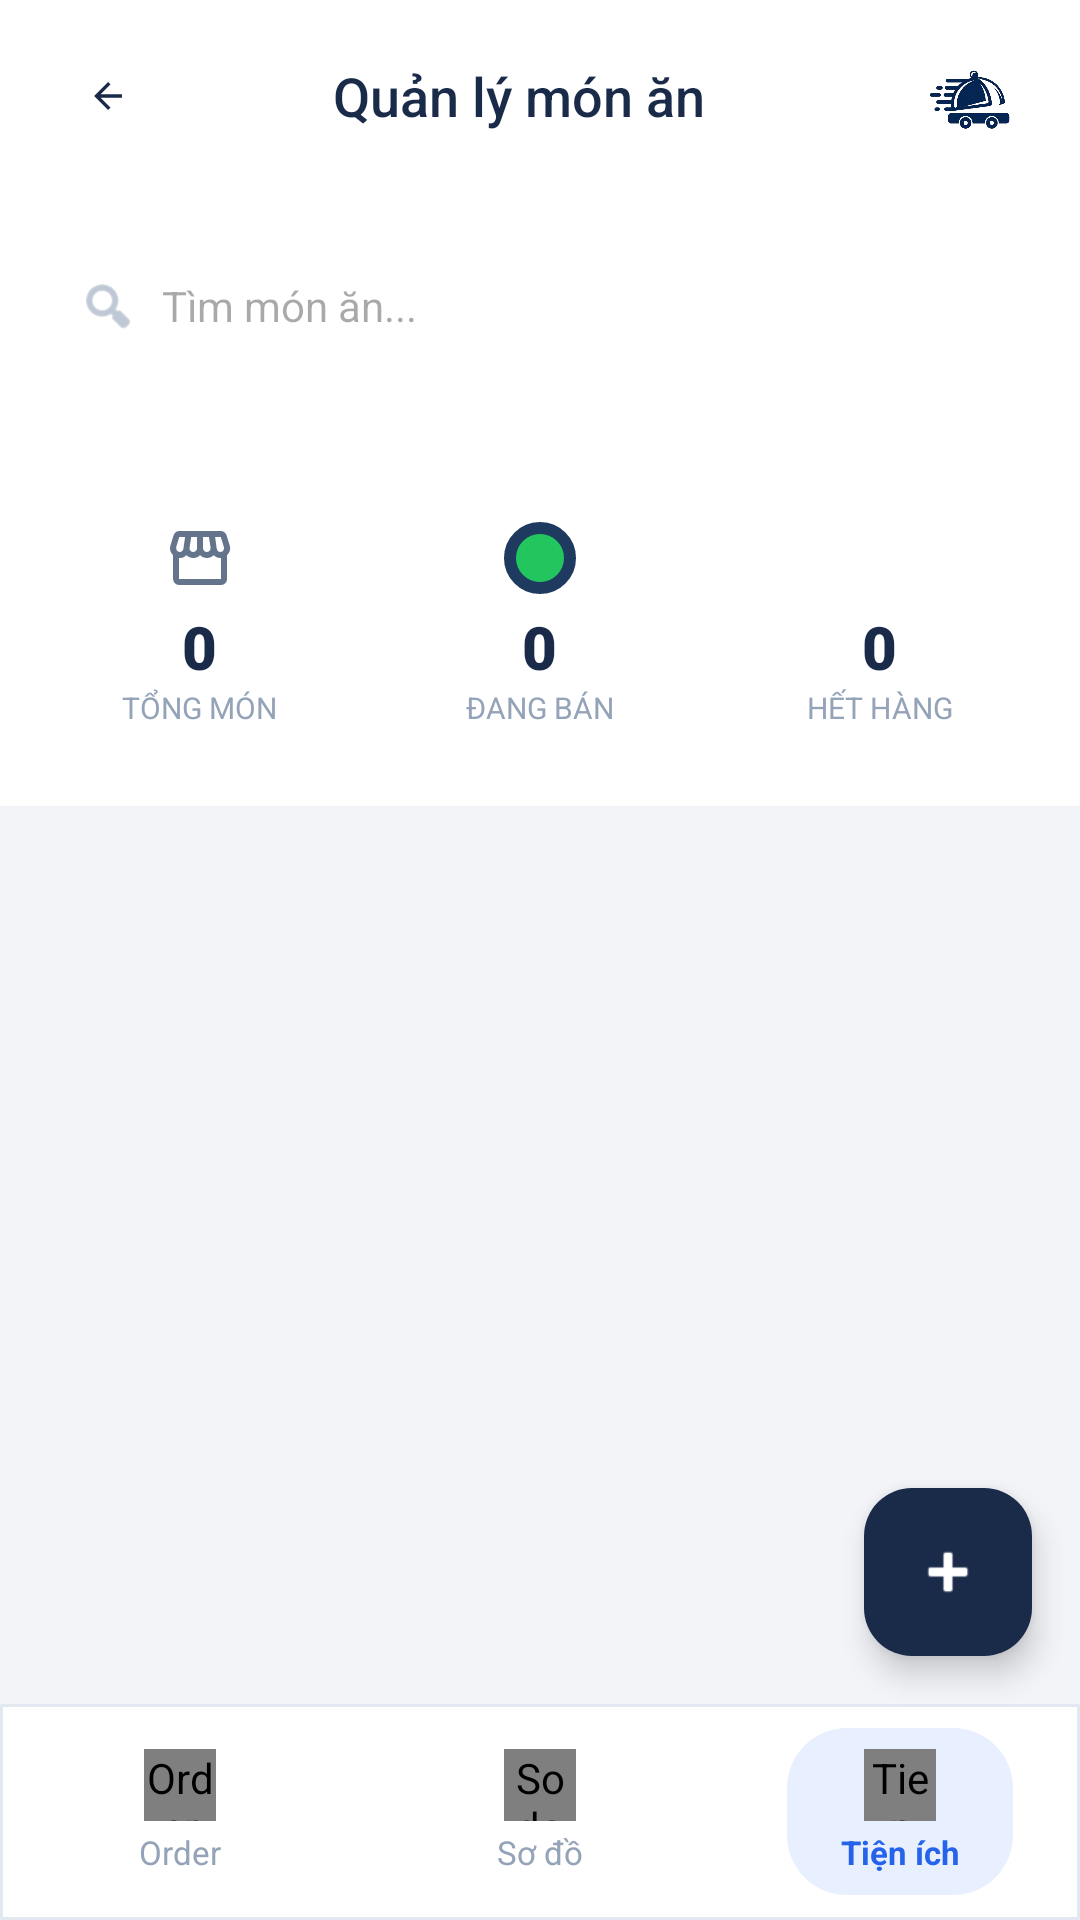

Icon click points for this 1080 × 1920 phone screenshot, format point (x, y):
add: point (948, 1572)
arrow left: point (108, 96)
search: point (108, 306)
store: point (200, 558)
